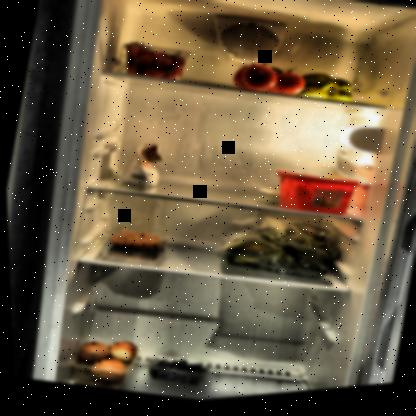banana: (291, 64, 361, 116)
blueberries: (142, 353, 210, 398)
butter: (265, 163, 365, 233)
green_beans: (226, 206, 345, 275)
onion: (67, 331, 136, 392)
shrimp: (104, 223, 168, 259)
spinach: (212, 224, 337, 296)
strawberries: (115, 35, 195, 88)
tomato: (227, 55, 311, 107)
